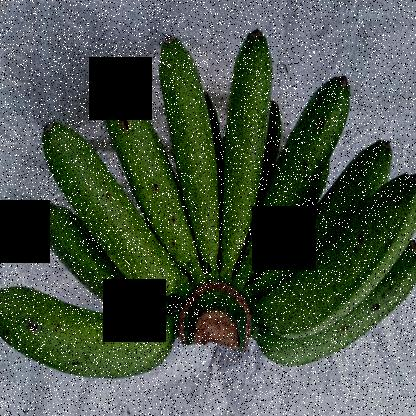unripe: (262, 162, 416, 347), (211, 1, 274, 290), (0, 286, 186, 380), (158, 27, 226, 259)
